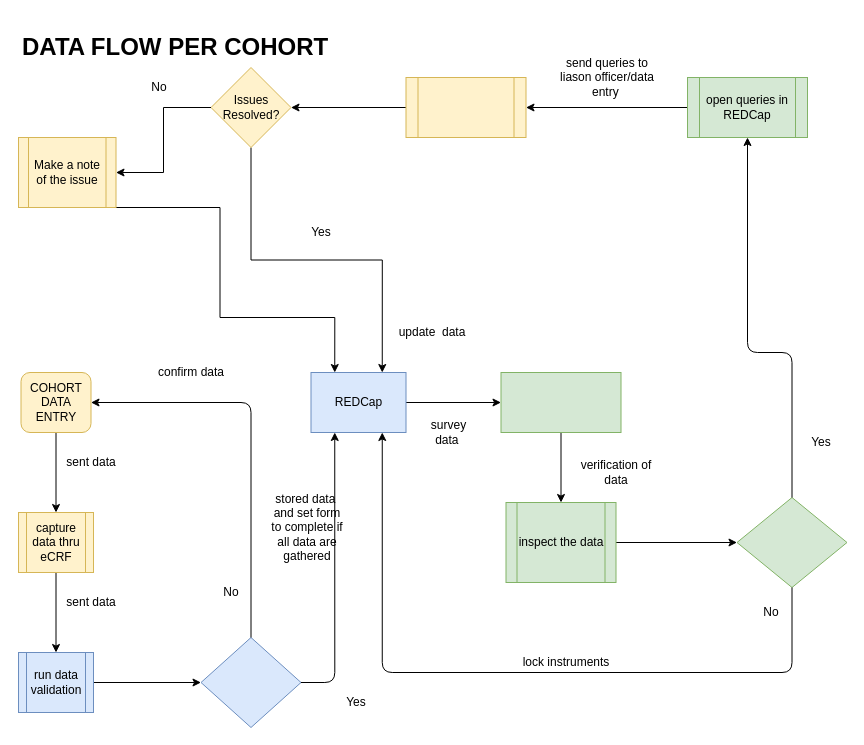
Some shapes in this 864 by 745 pixel diagram are drawn without their labels. Here are the shapes that lost their labels. From the top down, the box of each, then its label:
(405, 76, 526, 138): Liaison officer/data entry to investigate
(500, 372, 621, 432): DATA MANAGER
(736, 496, 847, 588): Are there any issues with the data?
(200, 636, 301, 728): Pass data validation?
